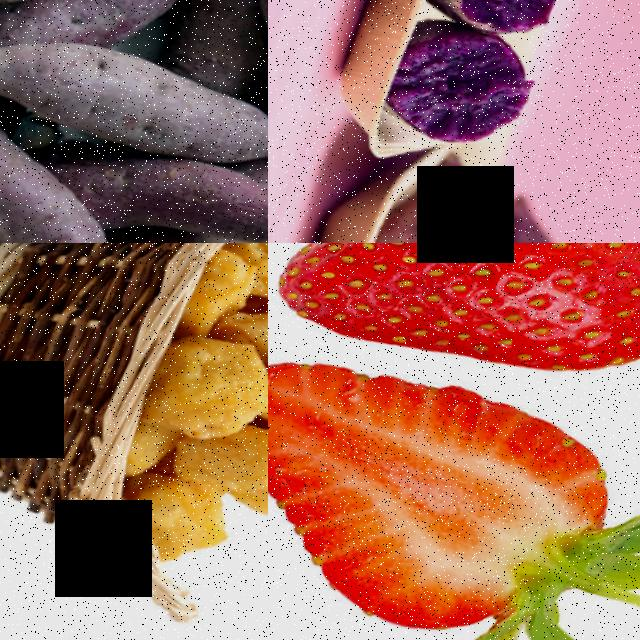strawberry: (268, 297, 640, 640), (268, 243, 640, 457)
sweet potato: (0, 0, 268, 222), (0, 37, 214, 243), (372, 8, 561, 180), (0, 0, 268, 95), (82, 125, 268, 243), (350, 152, 522, 243), (415, 0, 596, 64)
tofu: (143, 324, 268, 467), (173, 427, 268, 527), (185, 249, 268, 348)
